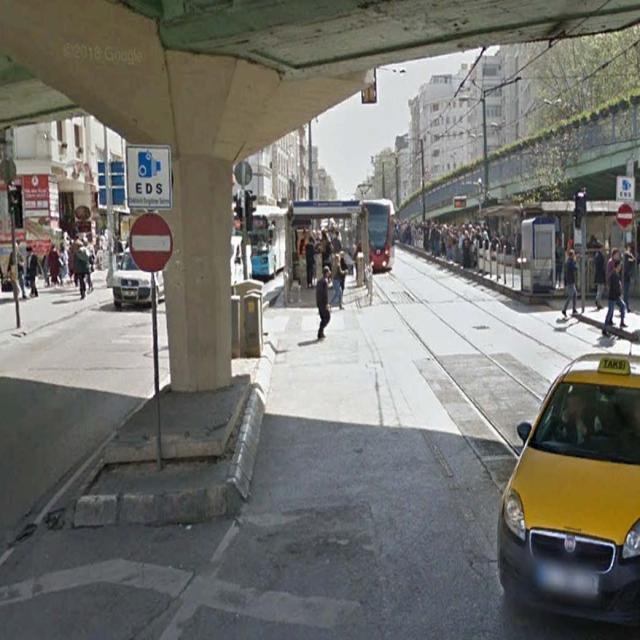girisyok: (129, 213, 173, 272), (616, 203, 633, 230)
